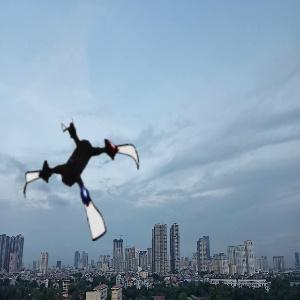drone: (21, 116, 148, 243)
